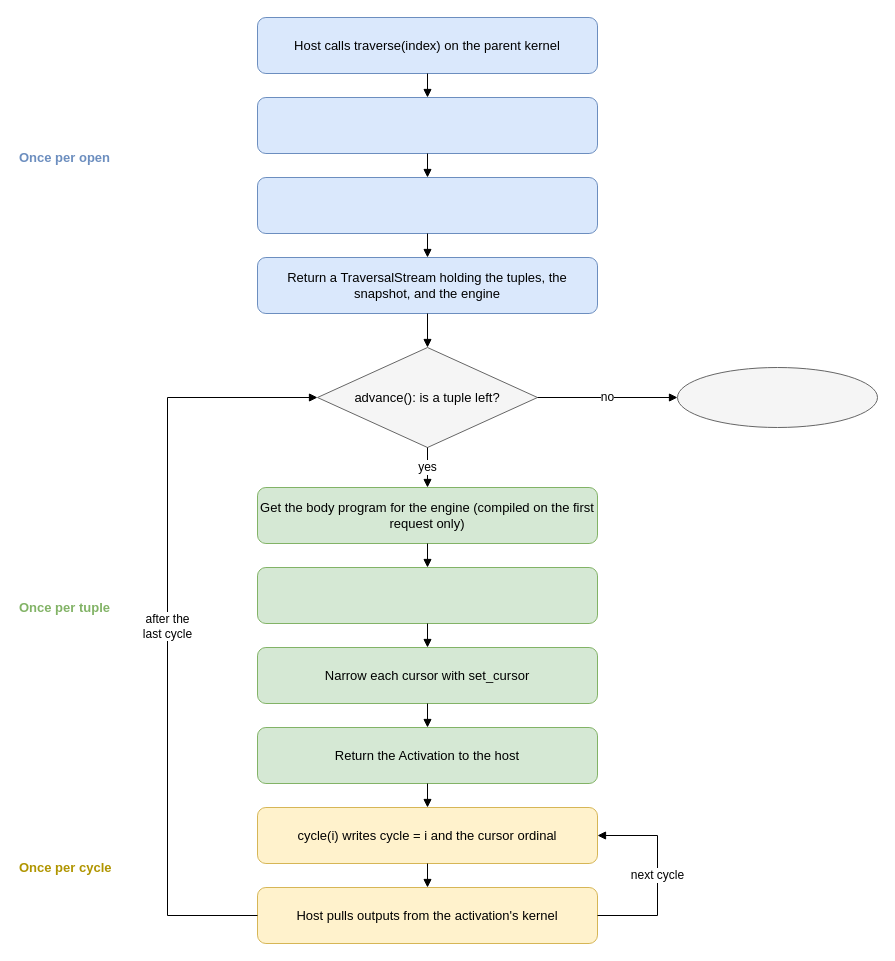
Some shapes in this 895 by 961 pixel diagram are drawn without their labels. The shapes that lost their labels are listed below. From the top down, each one's box as (x1, y1, x2, y2) in pixels, then its label:
(256, 96, 598, 154): Copy the current values of the cascaded and referenced wires (the snapshot)
(256, 176, 598, 234): Evaluate the comprehension to its complete list of tuples
(676, 366, 878, 428): Traversal finished (advance returns None)
(256, 566, 598, 624): Create a kernel and set_input each tuple element and cascaded wire
